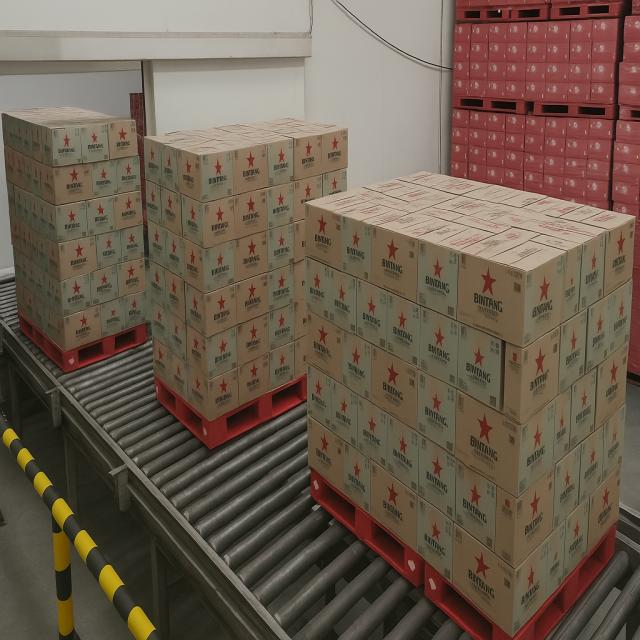pallet: (307, 148, 637, 640), (139, 110, 349, 472), (0, 102, 148, 380)
